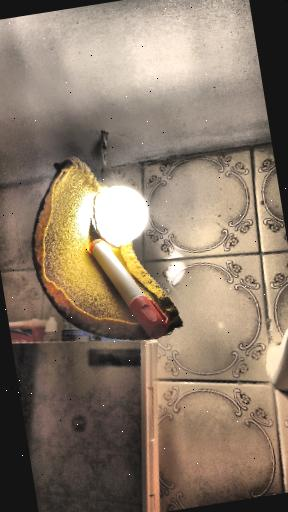marcador rojo: (89, 239, 169, 339)
